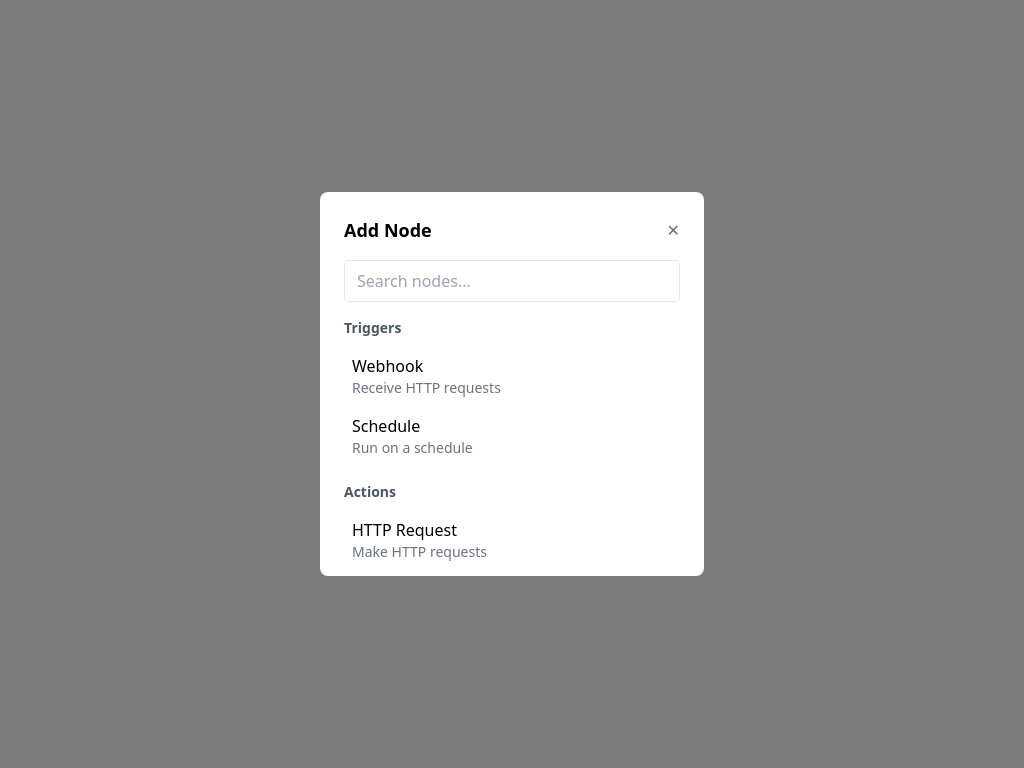
Test: AddNodeModal › should filter by node type as well as label
The width and height of the screenshot is (1024, 768).
Type "http_request" into the field with placeholder "Search nodes..." at (512, 281), box x1=344 y1=260 x2=680 y2=302
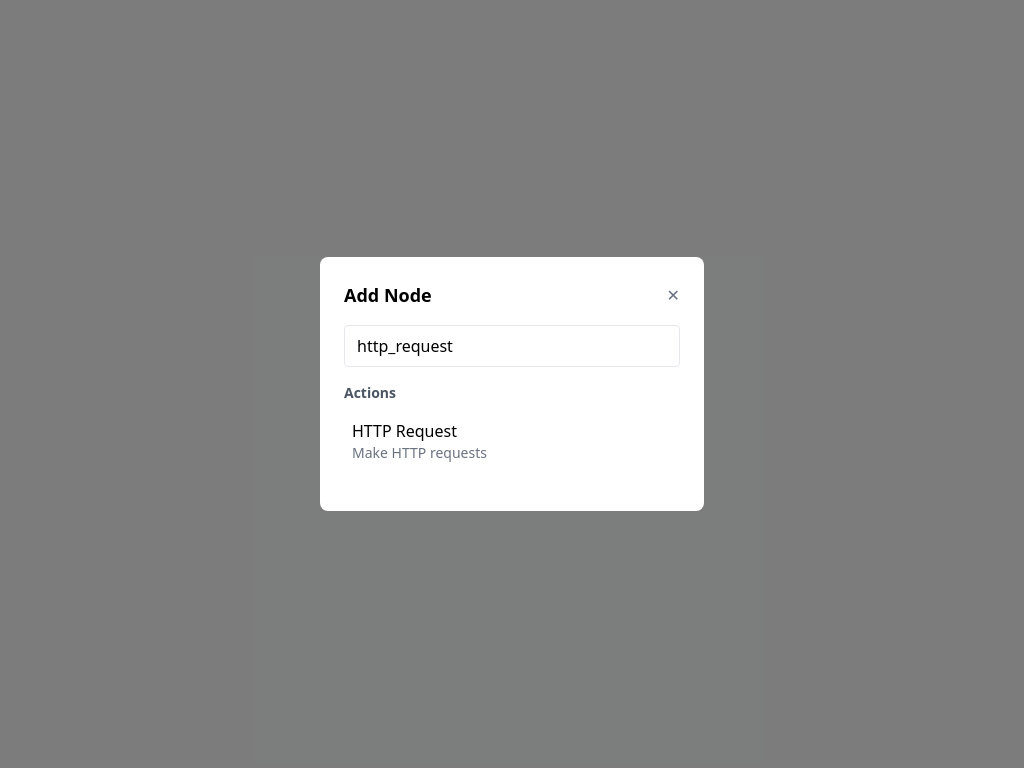
Expected: the text "HTTP Request" is shown, x1=352 y1=420 x2=457 y2=442
Expected: the button "Webhook" is gone
Expected: the button "Schedule" is gone
